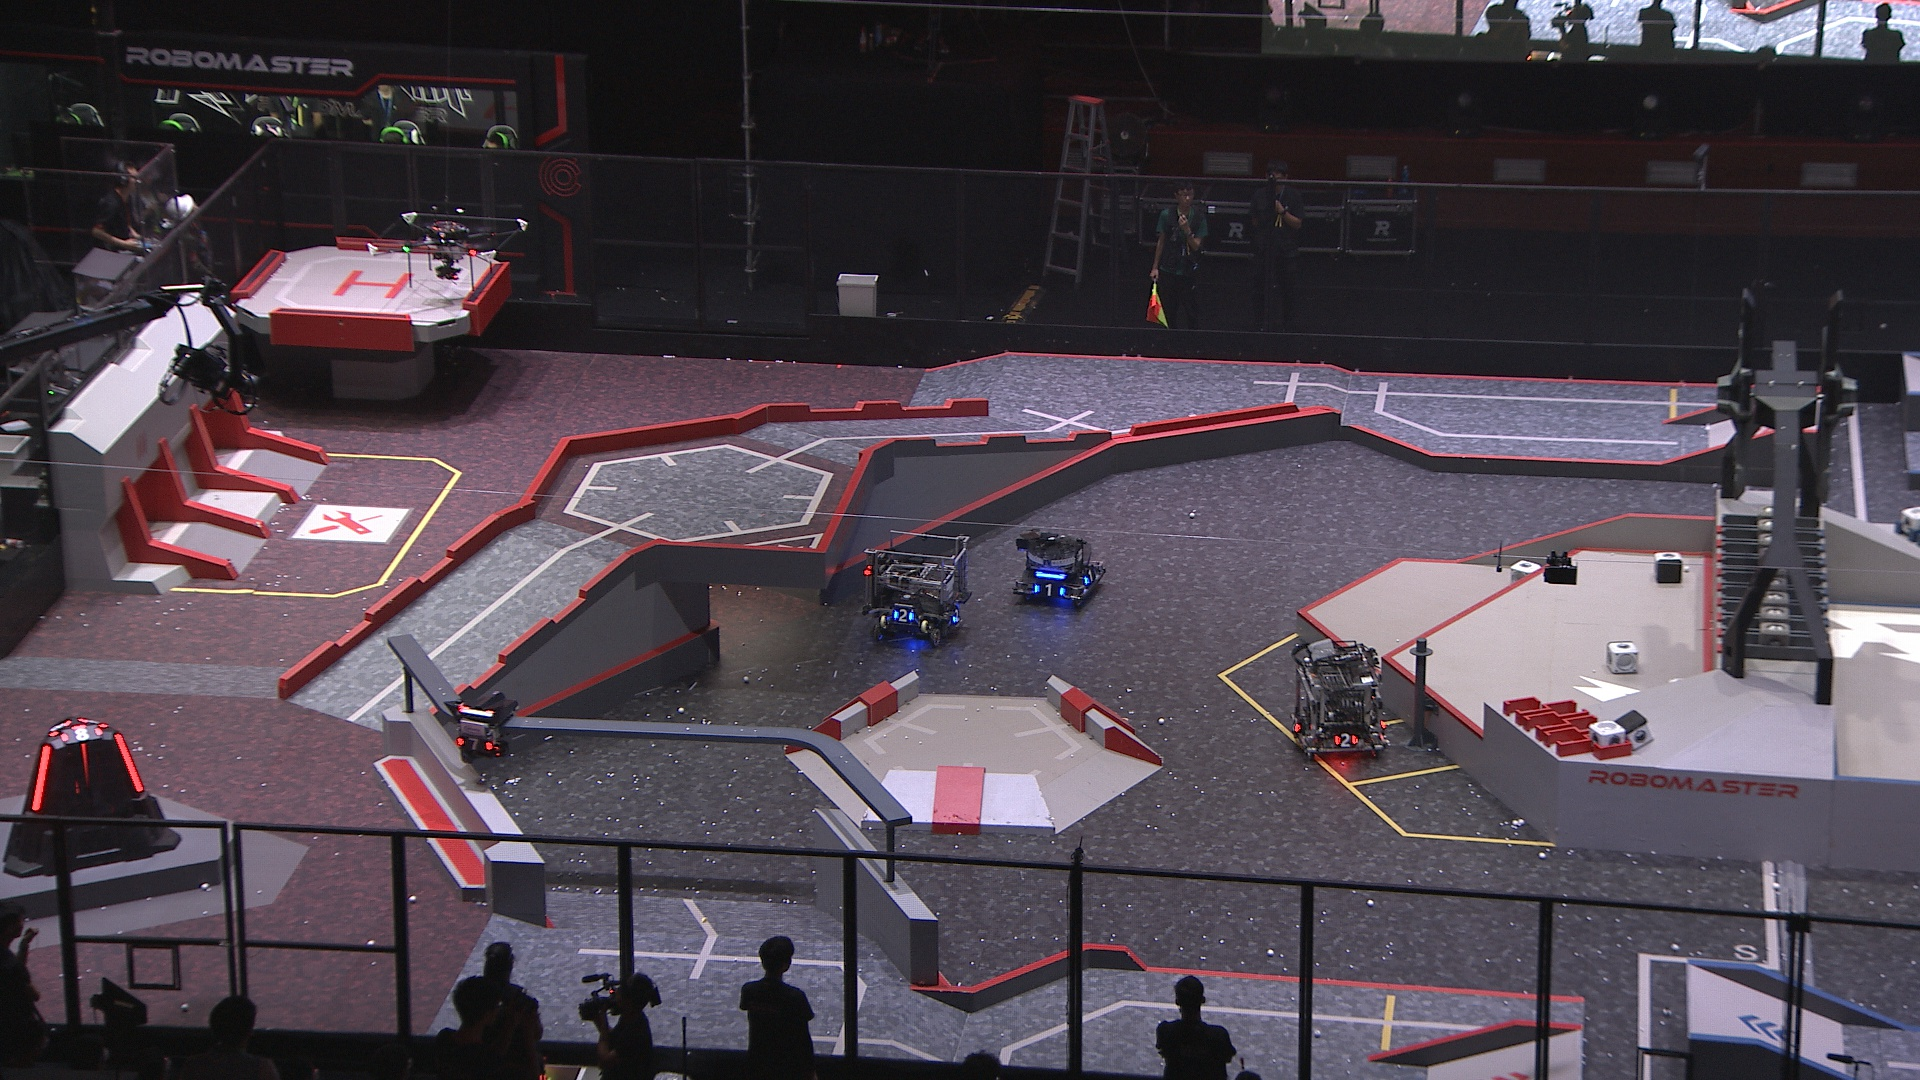armor: (112, 731, 148, 794), (32, 744, 51, 812), (455, 735, 496, 754), (58, 725, 102, 742), (78, 741, 92, 787), (1035, 582, 1068, 600), (1332, 731, 1358, 749), (891, 608, 915, 626), (1081, 566, 1098, 585), (949, 605, 963, 626), (1290, 716, 1302, 735)
base: (1, 717, 181, 880)
car: (1287, 637, 1391, 764), (858, 529, 968, 647), (1011, 527, 1109, 612)
watcher: (447, 692, 520, 765)
